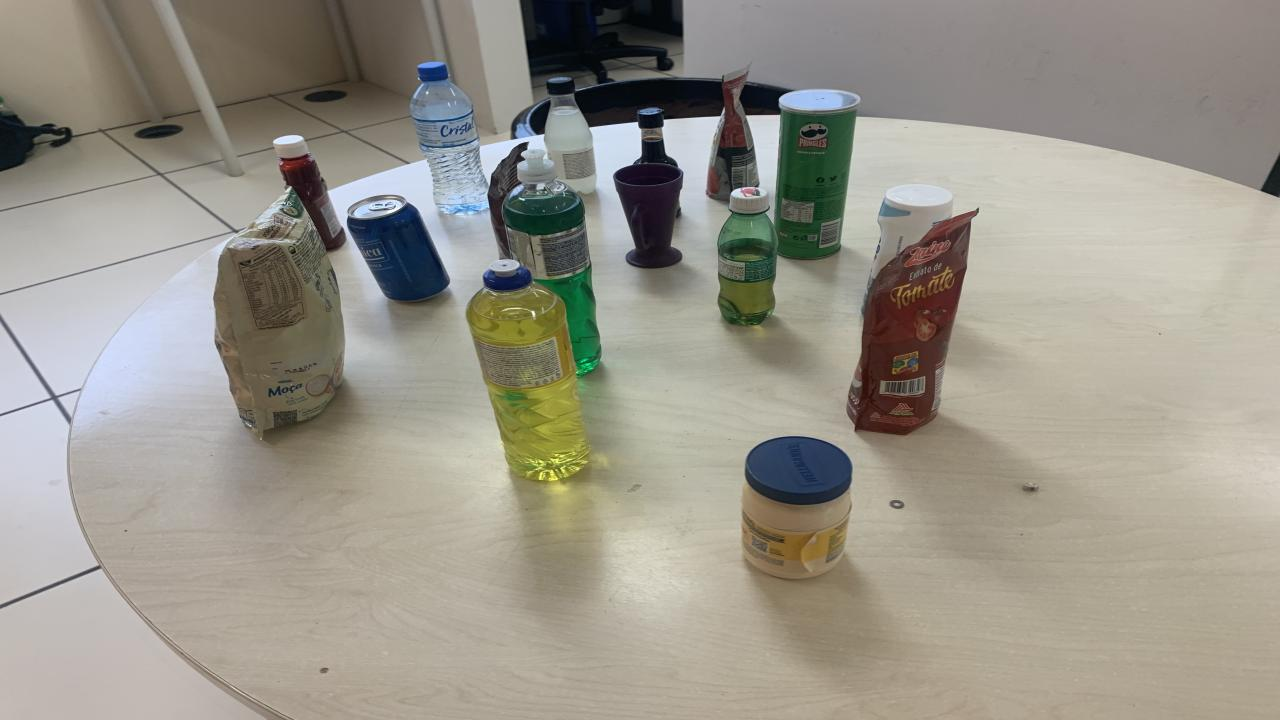Cleaner-Cleanup_Items: (868, 184, 952, 292)
Coffee-Pantry_Items: (488, 142, 528, 257)
Detergent-Cleanup_Items: (465, 259, 590, 480), (502, 150, 600, 375)
English_Sauce-Pantry_Items: (635, 107, 678, 165)
Flakes-Snacks: (215, 191, 345, 435)
Guarana-Drinks: (718, 188, 778, 324)
Ketchup-Pantry_Items: (272, 135, 345, 249)
Mayonnaise-Pantry_Items: (742, 437, 852, 579)
Pringles-Snacks: (775, 90, 860, 259)
Soda-Drinks: (545, 77, 598, 193)
Tomato_Sauce-Pantry_Items: (848, 210, 978, 435), (705, 66, 760, 201)
Tonic-Drinks: (348, 195, 450, 302)
Water_Bottle-Drinks: (410, 62, 488, 216)
